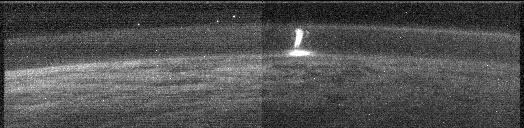positive: (290, 24, 305, 49)
